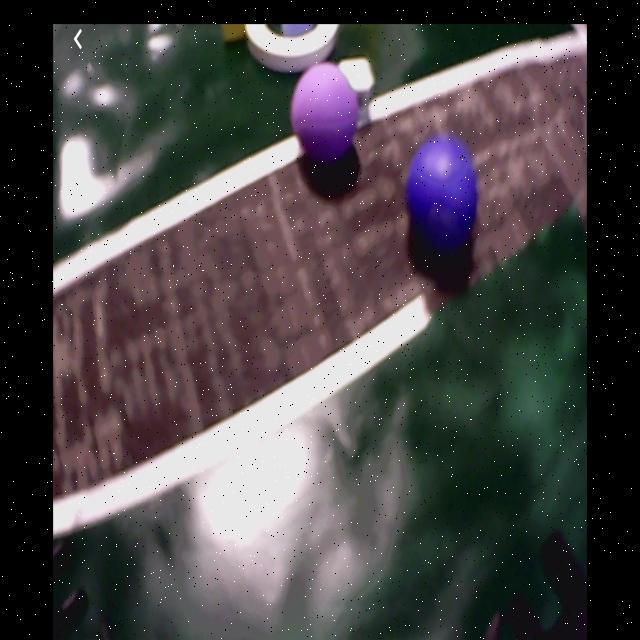ball: (408, 142, 480, 249), (293, 64, 357, 158)
